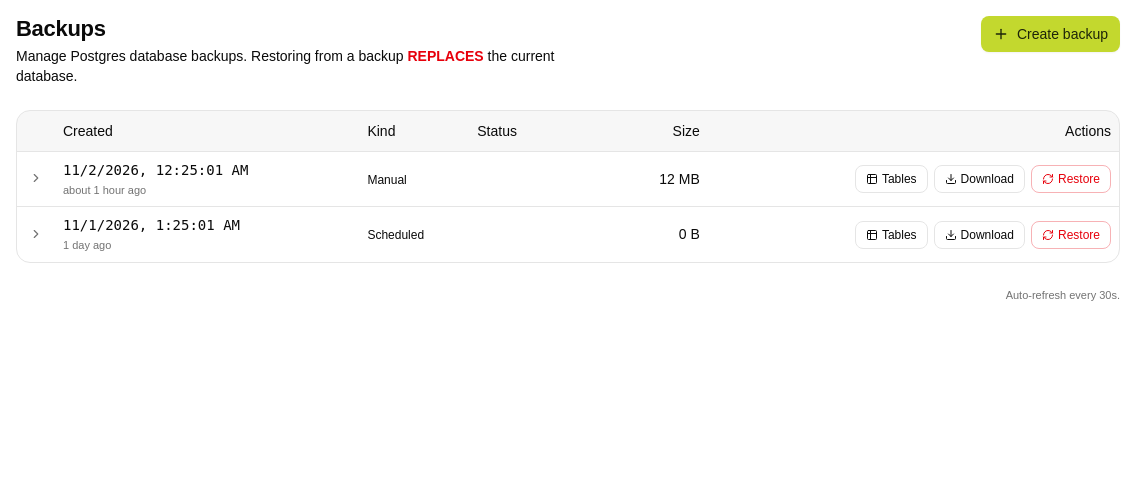
it: Backups page › expands a row to show tables when clicking the toggle
Expected: the text "12 MB" is shown, [622,151,708,207]
Note: There are at least two "Tables" buttons (one per row). Use the first row.
Click the button with aria-label "view tables" at {"x": 891, "y": 179}, box [855,165,928,193]
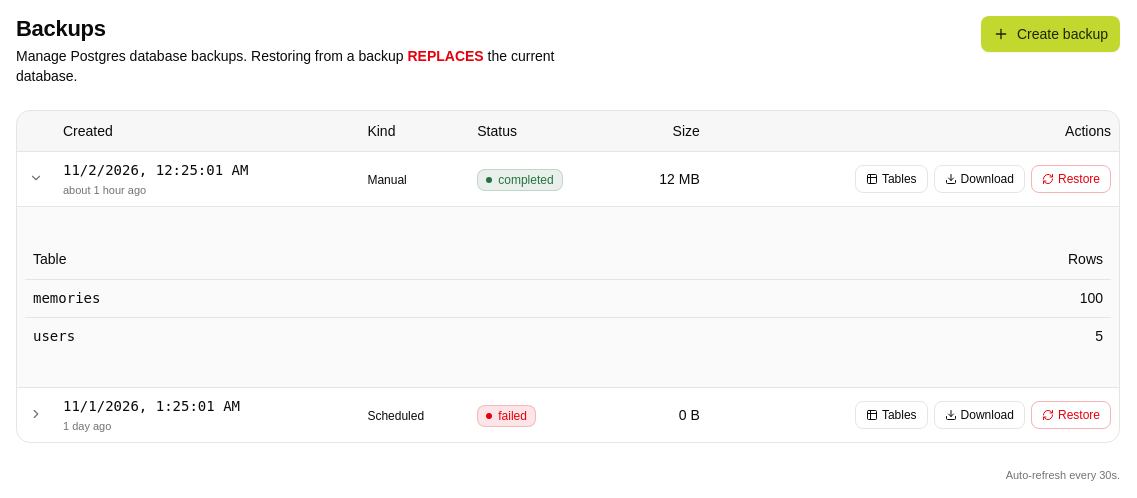
Expected: the text "memories" is shown, [25,279,699,317]
Expected: the text "users" is shown, [25,317,699,355]
